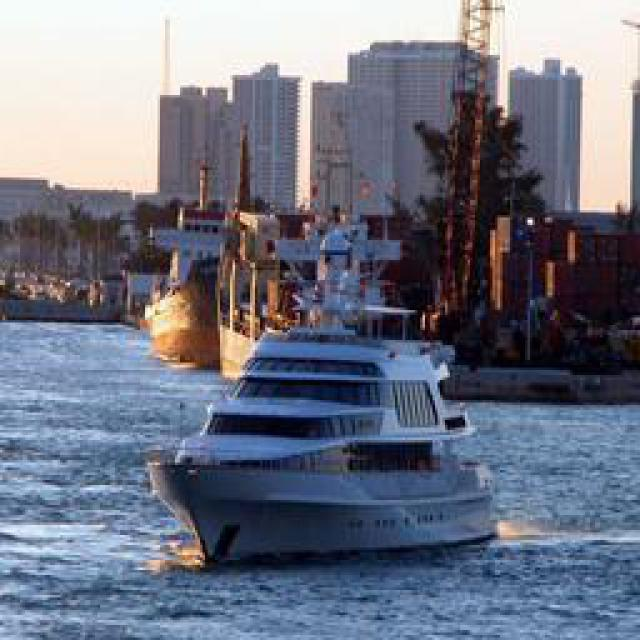Ship: (143, 327, 498, 565)
